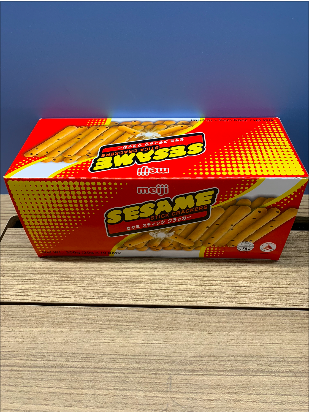Crackers_200-299g: (36, 123, 284, 258)
